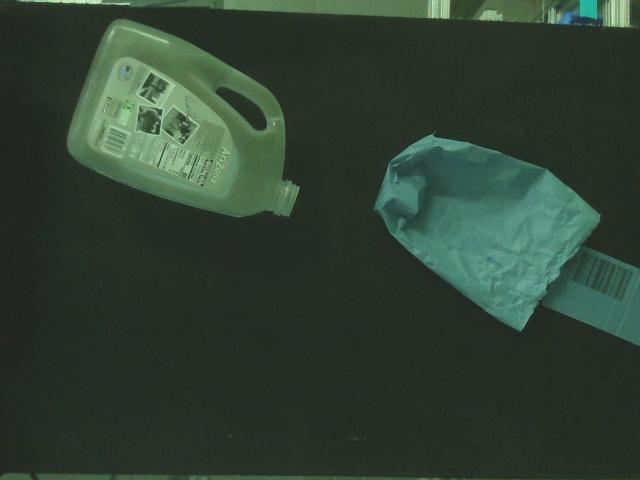cardboard: (536, 242, 640, 355)
paper: (372, 130, 606, 338)
plastic: (62, 17, 305, 223)
